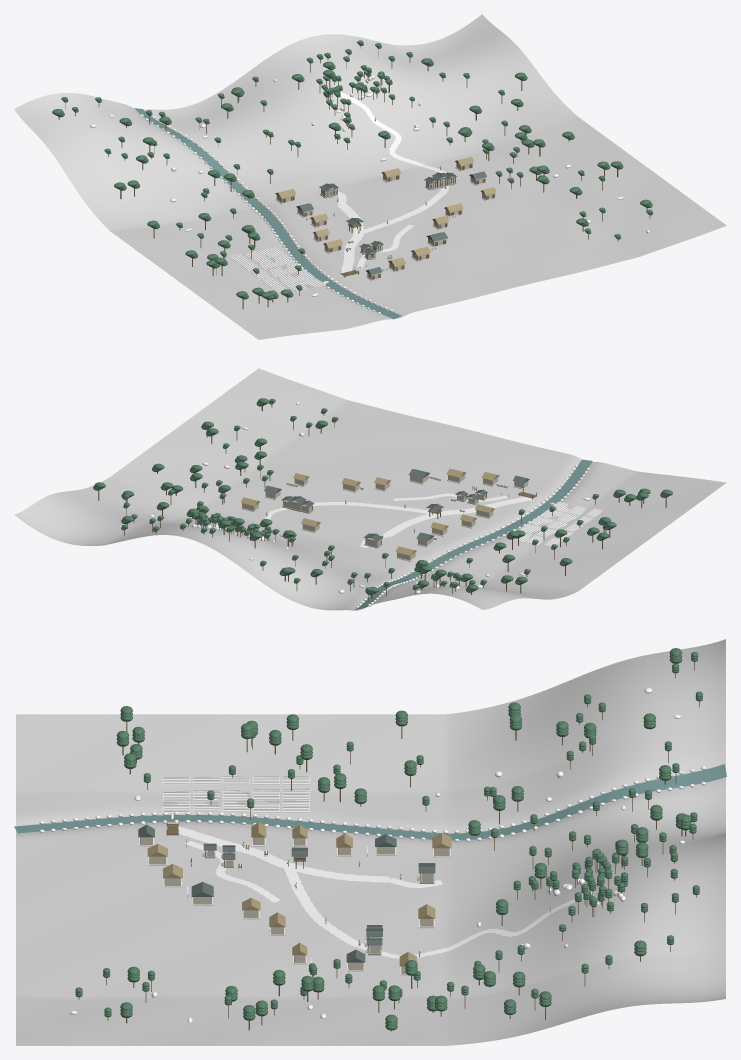
Rendered from blender-village-v028.glb.
3 renders of one model, top to bottom at view 1: azimuth 30°, elevation 25°; view 2: azimuth 150°, elevation 25°; view 3: azimuth 270°, elevation 25°, orthographic. The views are drawn at different scales.
Visible parts, largest first — view 1: Continuous sculpted terrain | 210m x 190m, Winding stream | recessed channel, Natural Hill track, Natural Market to gate; view 2: Continuous sculpted terrain | 210m x 190m, Winding stream | recessed channel, Natural Market to gate, Natural Guesthouse lane; view 3: Continuous sculpted terrain | 210m x 190m, Winding stream | recessed channel, Natural Market to gate, Natural Guesthouse lane, Natural Hill track.
Part boxes in pixels (x1,y1,x2,y2): Continuous sculpted terrain | 210m x 190m: (14, 14, 726, 339); Winding stream | recessed channel: (134, 108, 401, 319); Natural Hill track: (340, 92, 449, 189); Natural Market to gate: (337, 204, 364, 276); Continuous sculpted terrain | 210m x 190m: (14, 368, 726, 610); Winding stream | recessed channel: (353, 459, 592, 610); Natural Market to gate: (382, 496, 533, 536); Natural Guesthouse lane: (312, 502, 438, 515); Continuous sculpted terrain | 210m x 190m: (16, 639, 725, 1045); Winding stream | recessed channel: (14, 764, 726, 840); Natural Market to gate: (178, 826, 390, 882); Natural Guesthouse lane: (283, 865, 363, 946); Natural Hill track: (357, 877, 606, 958).
Bounding box in the file's own units: 210 × 32.64 × 191.
